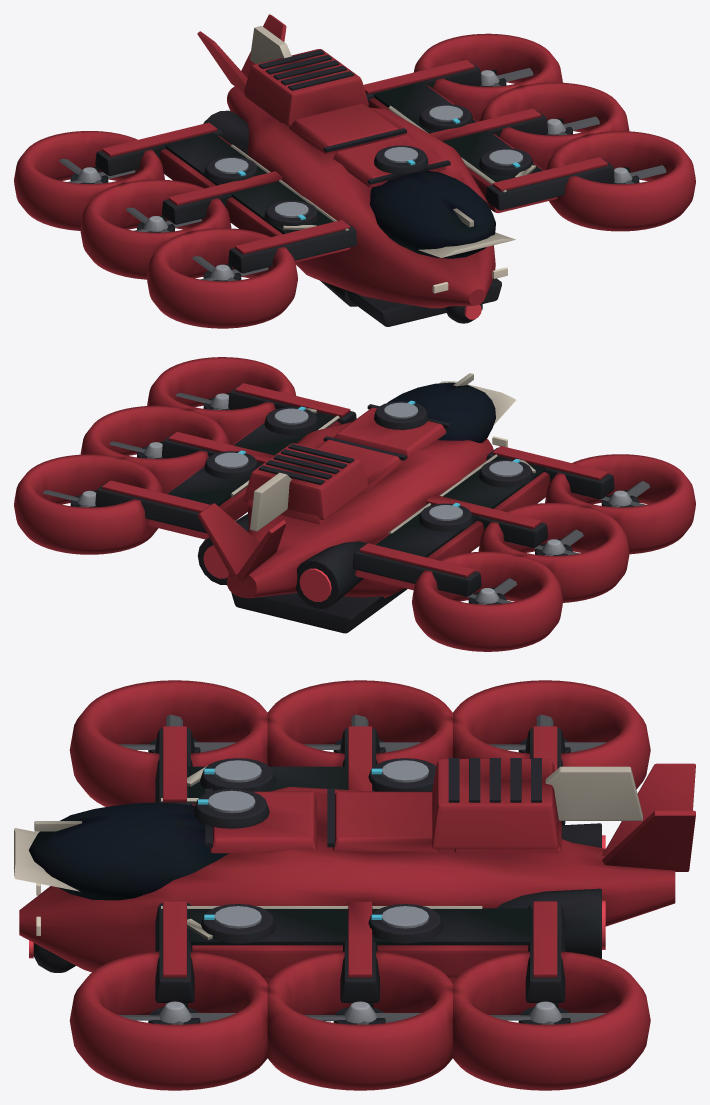
File: ex_gunship_8.glb
The picture shows the model from 3 angles, top to bottom: view 1: azimuth 30°, elevation 25°; view 2: azimuth 150°, elevation 25°; view 3: azimuth 270°, elevation 25°; orthographic projection. The views are drawn at different scales.
Parts seen in each view (by area): view 1: body, rotor_3, rotor_5, rotor_4, rotor_0, rotor_2, rotor_1; view 2: body, rotor_3, rotor_5, rotor_4; view 3: body, rotor_1, rotor_2, rotor_0, rotor_4, rotor_5, rotor_3.
Part boxes in pixels (left/top/right/bottom): body: left=14, top=14, right=695, bottom=328; rotor_3: left=192, top=256, right=268, bottom=281; rotor_5: left=59, top=159, right=135, bottom=183; rotor_4: left=126, top=207, right=201, bottom=232; rotor_0: left=614, top=165, right=666, bottom=183; rotor_2: left=481, top=68, right=533, bottom=86; rotor_1: left=547, top=116, right=599, bottom=135; body: left=14, top=357, right=695, bottom=651; rotor_3: left=576, top=481, right=649, bottom=507; rotor_5: left=443, top=578, right=517, bottom=604; rotor_4: left=511, top=529, right=583, bottom=555; body: left=14, top=680, right=695, bottom=1090; rotor_1: left=304, top=1001, right=421, bottom=1024; rotor_2: left=489, top=1001, right=606, bottom=1024; rotor_0: left=118, top=1001, right=235, bottom=1024; rotor_4: left=303, top=714, right=421, bottom=752; rotor_5: left=489, top=714, right=606, bottom=752; rotor_3: left=118, top=714, right=236, bottom=752.
Size of the model in its own units: 14.12 by 4.08 by 11.32.
